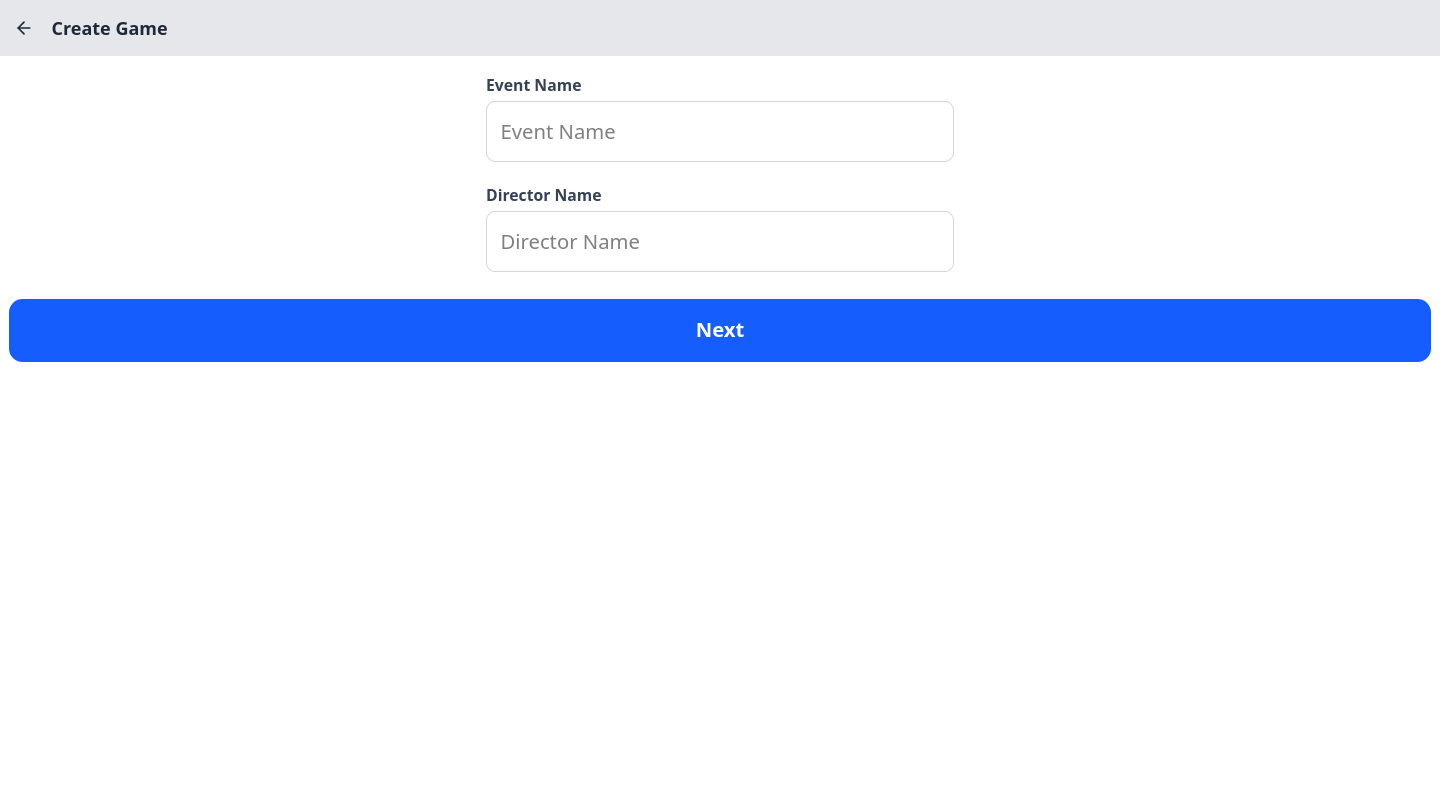
CreateGamePage › shows an error and re-enables the button when creation fails
Type "Test Event" into the field labelled "Event Name" at (720, 131), box [486,101,954,162]
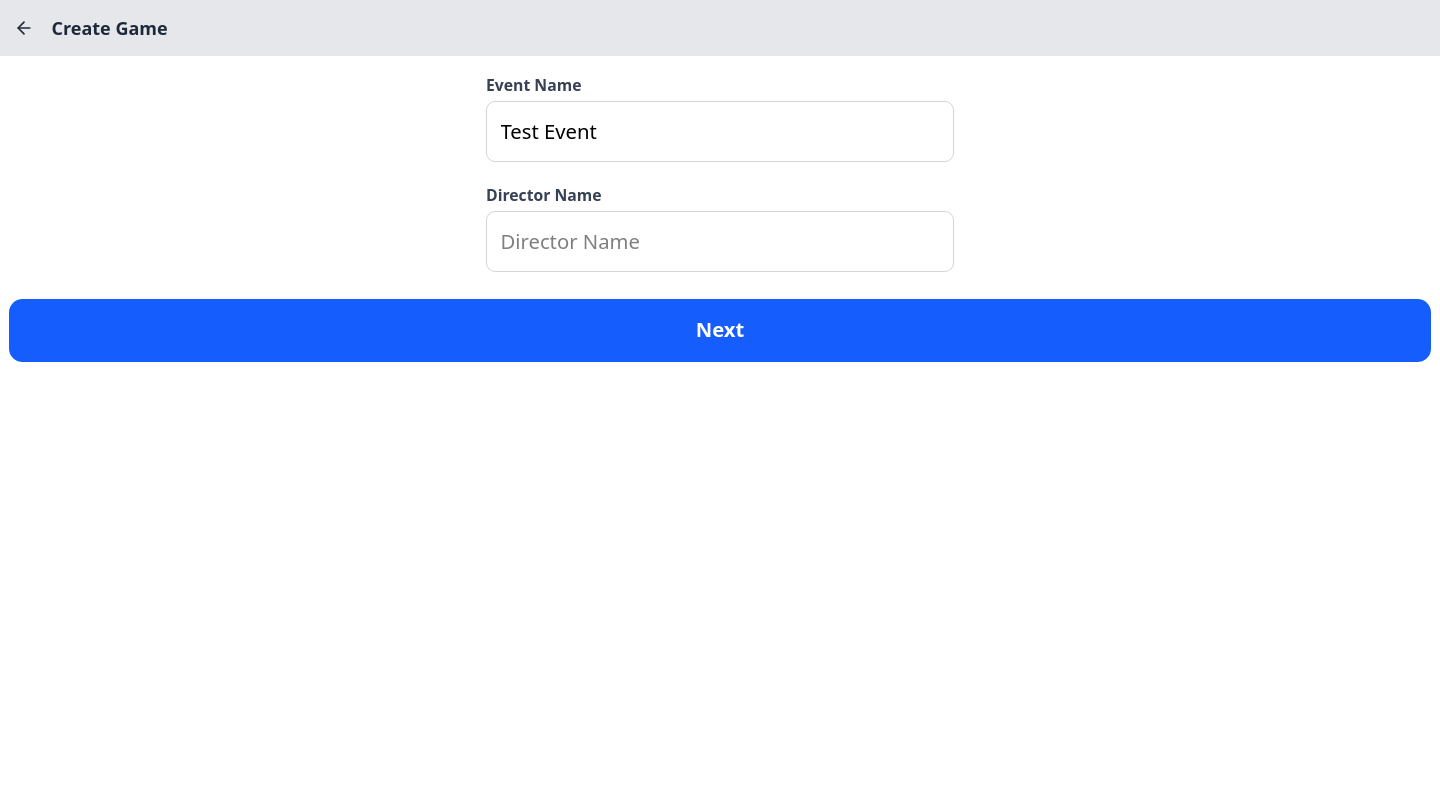
Type "Test Director" into the field labelled "Director Name" at (720, 241), box [486,211,954,272]
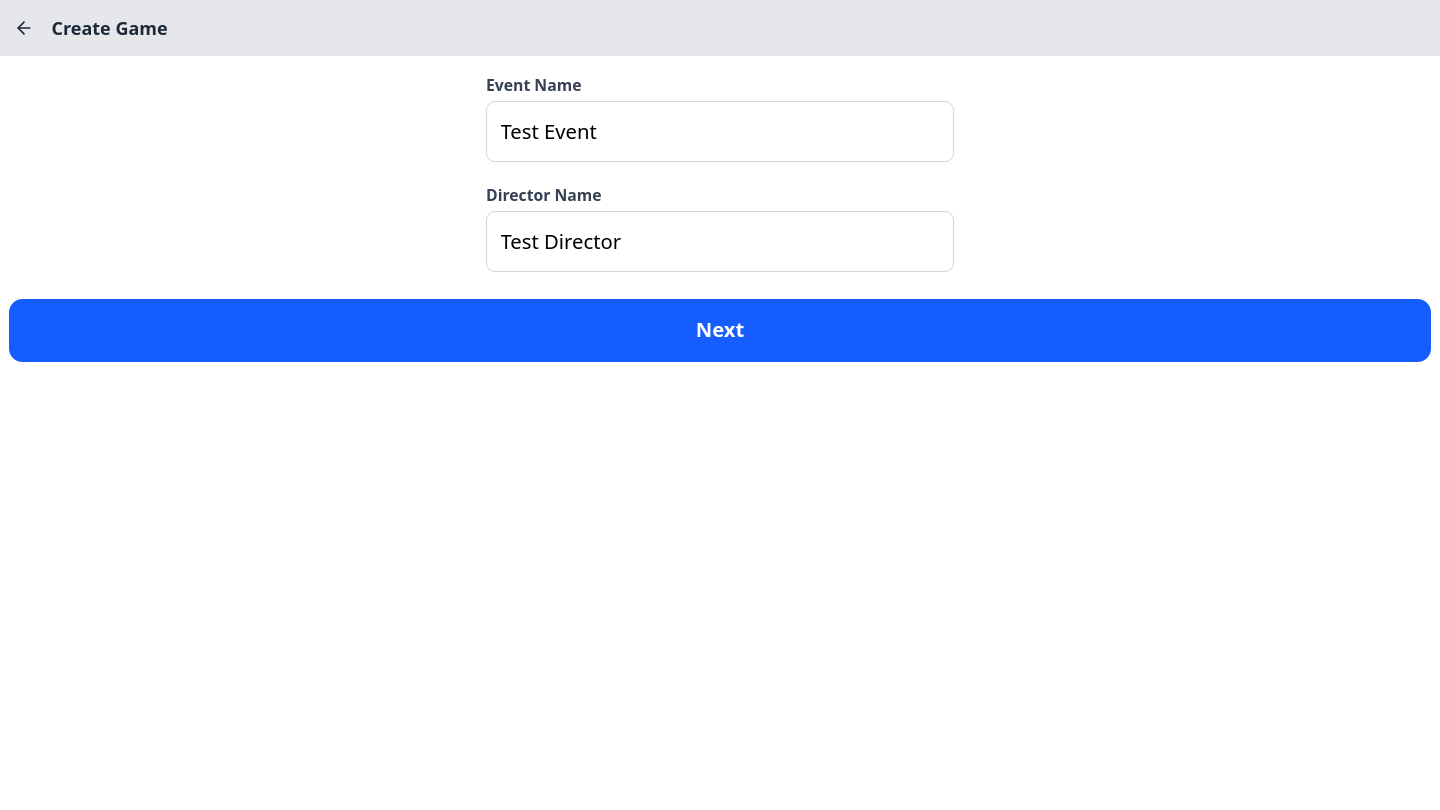
Click the button "Next" at (720, 330), box [9,298,1431,362]
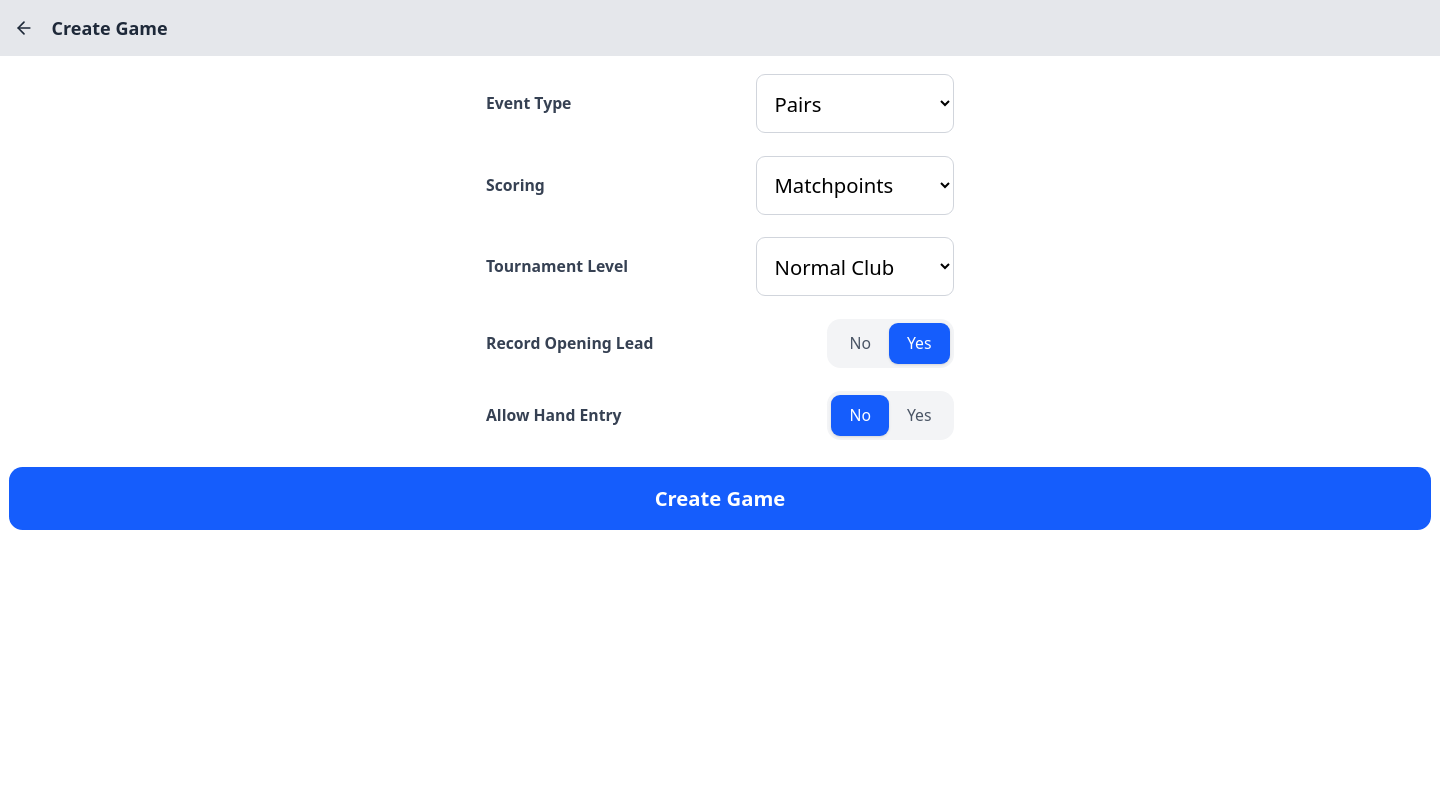
Click the button "Create Game" at (720, 498), box [9,467,1431,530]
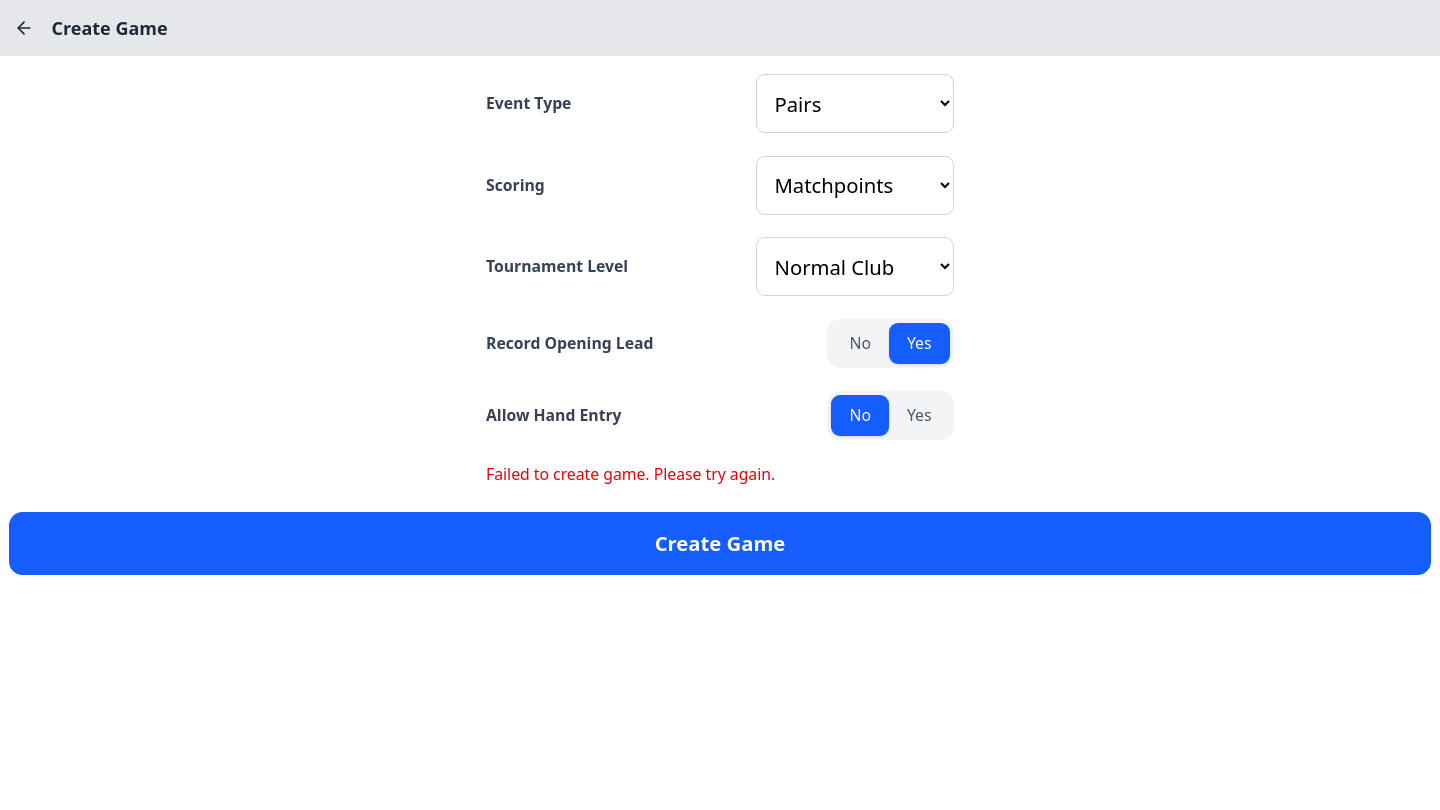
Expected: the button "Create Game" is enabled, [9,512,1431,575]
Expected: the message reads "Failed to create game. Please try again.", [486,462,775,484]
